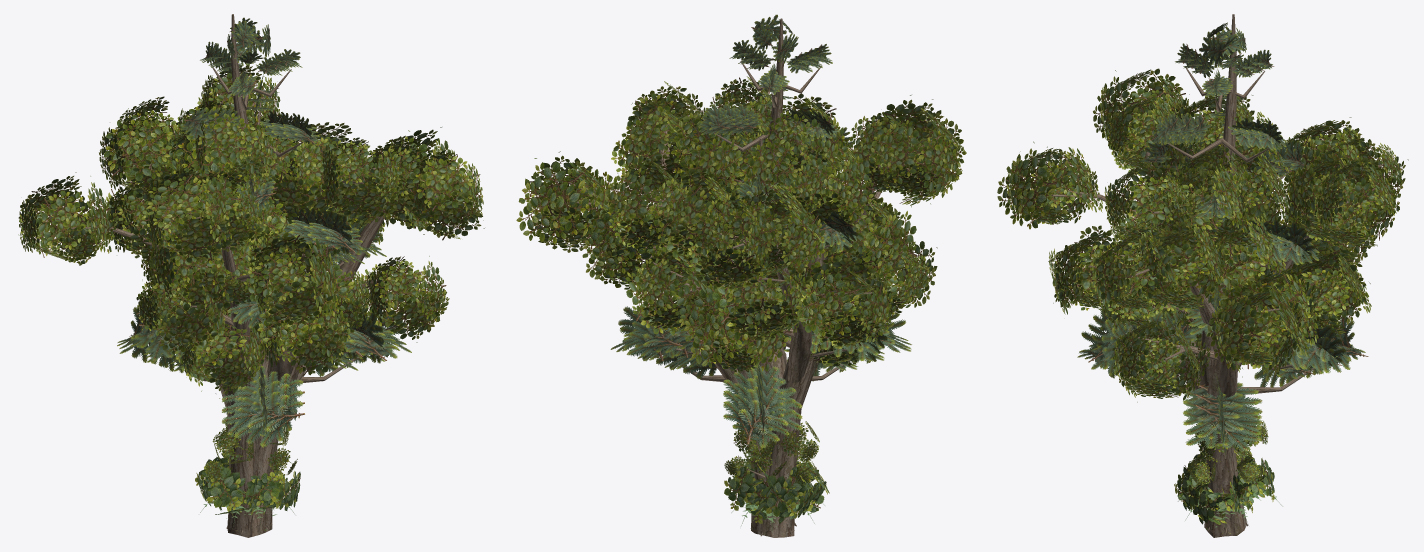
Rendered from flora-standard-r15.glb.
The picture shows the model from 3 angles, left to right: view 1: azimuth 30°, elevation 25°; view 2: azimuth 150°, elevation 25°; view 3: azimuth 270°, elevation 25°; orthographic projection.
Visible parts, largest first — view 1: alderTall_volumetric_leaf_clusters, alder_volumetric_leaf_clusters, pine_volumetric_leaf_clusters, alderTall_rooted_branch_skeleton, hazelShrub_botanical_foliage, alder_rooted_branch_skeleton, pine_rooted_branch_skeleton, alderSapling_botanical_foliage; view 2: alderTall_volumetric_leaf_clusters, alder_volumetric_leaf_clusters, pine_volumetric_leaf_clusters, alderTall_rooted_branch_skeleton, hazelShrub_botanical_foliage, alderSapling_botanical_foliage, pine_rooted_branch_skeleton, alder_rooted_branch_skeleton; view 3: alder_volumetric_leaf_clusters, alderTall_volumetric_leaf_clusters, pine_volumetric_leaf_clusters, alder_rooted_branch_skeleton, hazelShrub_botanical_foliage, pine_rooted_branch_skeleton, alderSapling_botanical_foliage, alderTall_rooted_branch_skeleton.
Boxes of the visible parts, bbox=[...] form: alderTall_volumetric_leaf_clusters: bbox=[18, 96, 401, 353]; alder_volumetric_leaf_clusters: bbox=[102, 64, 484, 398]; pine_volumetric_leaf_clusters: bbox=[117, 17, 411, 447]; alderTall_rooted_branch_skeleton: bbox=[66, 161, 378, 537]; hazelShrub_botanical_foliage: bbox=[195, 452, 300, 516]; alder_rooted_branch_skeleton: bbox=[166, 87, 480, 535]; pine_rooted_branch_skeleton: bbox=[148, 14, 362, 535]; alderSapling_botanical_foliage: bbox=[204, 414, 297, 484]; alderTall_volumetric_leaf_clusters: bbox=[582, 76, 966, 372]; alder_volumetric_leaf_clusters: bbox=[516, 81, 916, 366]; pine_volumetric_leaf_clusters: bbox=[610, 14, 911, 449]; alderTall_rooted_branch_skeleton: bbox=[640, 105, 941, 537]; hazelShrub_botanical_foliage: bbox=[724, 458, 829, 523]; alderSapling_botanical_foliage: bbox=[724, 421, 819, 484]; pine_rooted_branch_skeleton: bbox=[673, 18, 858, 535]; alder_rooted_branch_skeleton: bbox=[568, 105, 887, 536]; alder_volumetric_leaf_clusters: bbox=[1048, 146, 1399, 402]; alderTall_volumetric_leaf_clusters: bbox=[997, 68, 1408, 360]; pine_volumetric_leaf_clusters: bbox=[1077, 22, 1368, 457]; alder_rooted_branch_skeleton: bbox=[1088, 147, 1387, 537]; hazelShrub_botanical_foliage: bbox=[1174, 450, 1274, 524]; pine_rooted_branch_skeleton: bbox=[1142, 14, 1319, 537]; alderSapling_botanical_foliage: bbox=[1187, 420, 1268, 484]; alderTall_rooted_branch_skeleton: bbox=[1051, 102, 1383, 532].
Size of the model in its own units: 7.48 by 9.22 by 6.77.
4 materials, 3 textured.
